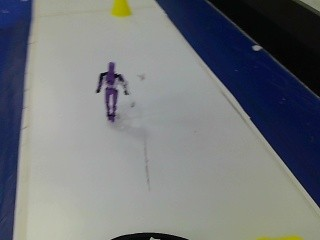pedestrian: (85, 56, 134, 129)
